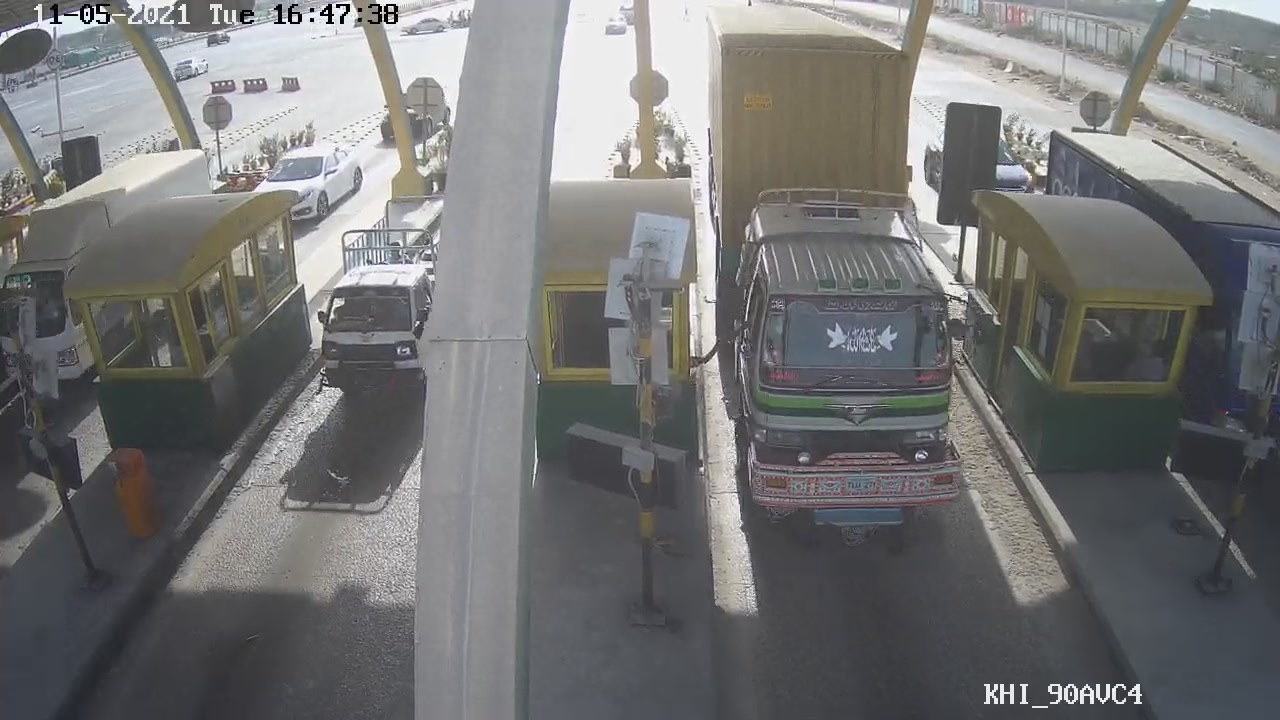F6: (697, 1, 974, 540)
